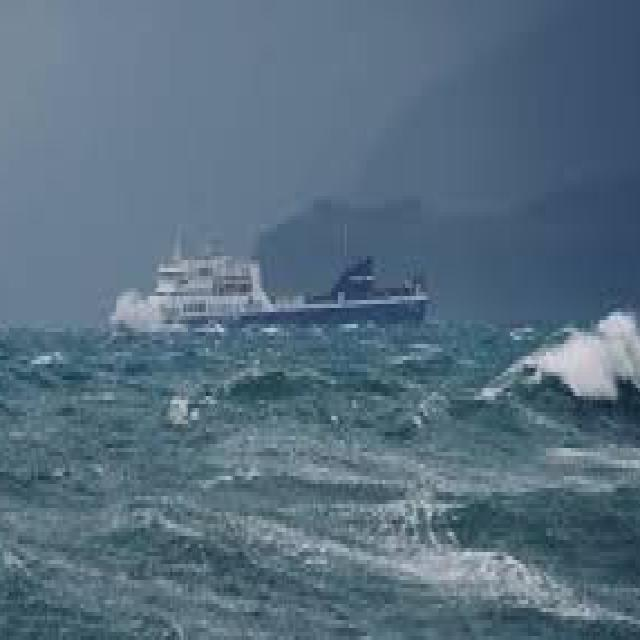fishing boat: (148, 230, 438, 330)
